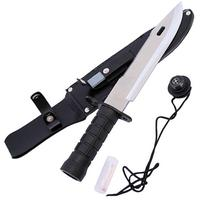knife: (64, 1, 186, 184)
